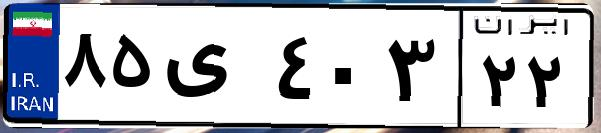0: (330, 28, 385, 110)
2: (475, 38, 525, 113), (525, 38, 570, 115)
3: (385, 28, 445, 110)
4: (270, 28, 330, 110)
5: (110, 28, 158, 98)
8: (57, 26, 110, 100)
ی: (158, 20, 270, 120)
